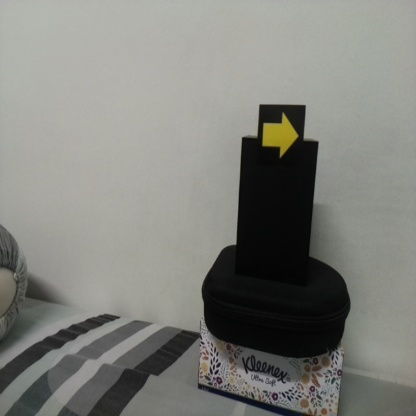id_3: (258, 105, 305, 169)
